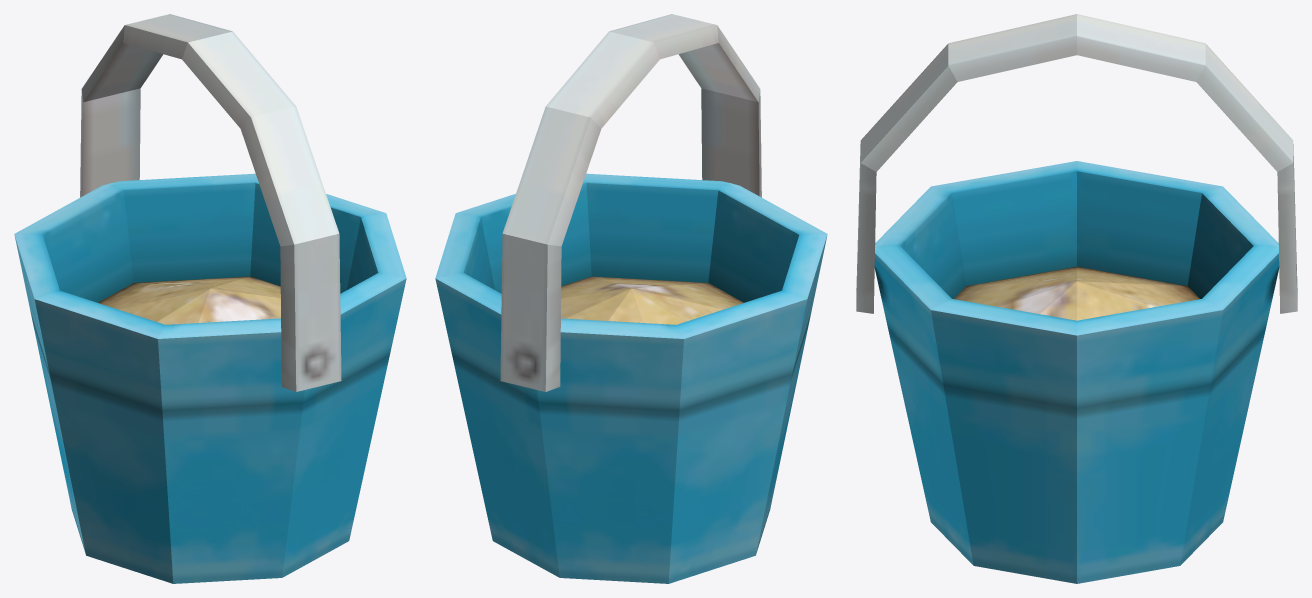
Rendered from Whale_beachShovel_bucket.obj.
3 views of the same model, side by side, from view 1: azimuth 30°, elevation 25°; view 2: azimuth 150°, elevation 25°; view 3: azimuth 270°, elevation 25° (orthographic).
Visible parts, largest first — view 1: Whale_beachShovel_tri [bucket]; view 2: Whale_beachShovel_tri [bucket]; view 3: Whale_beachShovel_tri [bucket].
Part boxes in pixels (bbox=[...]): Whale_beachShovel_tri [bucket]: bbox=[14, 14, 406, 583]; Whale_beachShovel_tri [bucket]: bbox=[435, 14, 827, 583]; Whale_beachShovel_tri [bucket]: bbox=[856, 14, 1297, 583].
Size of the model in its own units: 0.544 by 0.7217 by 0.5804.
Materials: 1 (1 with a texture image).
